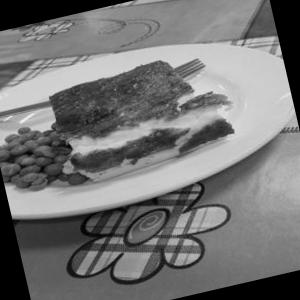casserole: (0, 38, 245, 200)
